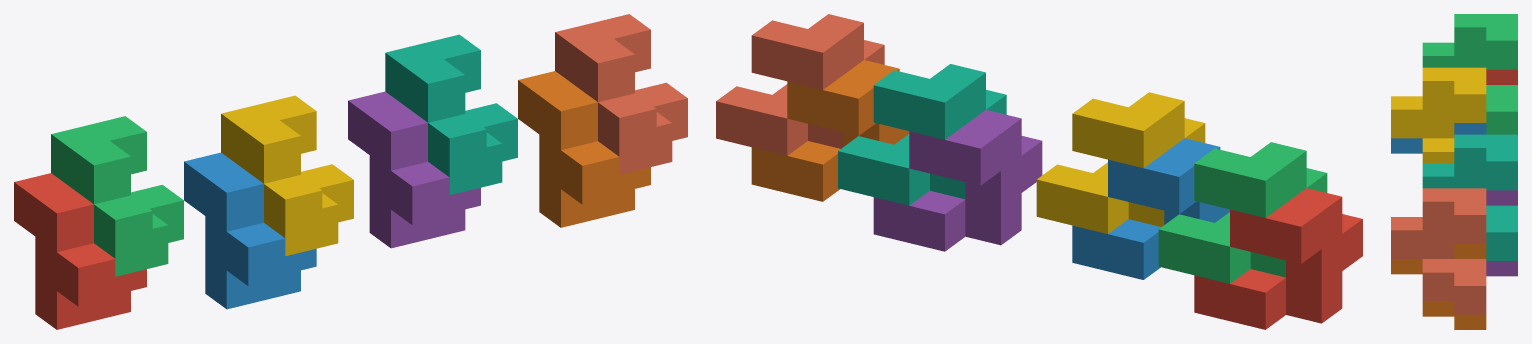
File: tiling.obj
3 renders of one model, left to right at view 1: azimuth 30°, elevation 25°; view 2: azimuth 150°, elevation 25°; view 3: azimuth 270°, elevation 25°, orthographic. The views are drawn at different scales.
Visible parts, largest first — view 1: copy_1_domain_7, copy_1_domain_4, copy_1_domain_8, copy_1_domain_3, copy_1_domain_5, copy_1_domain_1, copy_1_domain_2, copy_1_domain_6; view 2: copy_1_domain_5, copy_1_domain_1, copy_1_domain_4, copy_1_domain_7, copy_1_domain_3, copy_1_domain_8, copy_1_domain_6, copy_1_domain_2; view 3: copy_1_domain_8, copy_1_domain_4, copy_1_domain_7, copy_1_domain_3, copy_1_domain_6, copy_1_domain_5, copy_1_domain_2, copy_1_domain_1.
Boxes of the visible parts, <box> form: copy_1_domain_7: <box>385,34,517,194</box>; copy_1_domain_4: <box>221,95,353,256</box>; copy_1_domain_8: <box>555,14,687,174</box>; copy_1_domain_3: <box>51,116,183,276</box>; copy_1_domain_5: <box>348,91,480,248</box>; copy_1_domain_1: <box>14,173,146,329</box>; copy_1_domain_2: <box>184,152,316,309</box>; copy_1_domain_6: <box>518,71,650,227</box>; copy_1_domain_5: <box>873,110,1042,251</box>; copy_1_domain_1: <box>1194,188,1362,329</box>; copy_1_domain_4: <box>1036,92,1205,233</box>; copy_1_domain_7: <box>838,64,1006,205</box>; copy_1_domain_3: <box>1158,142,1327,283</box>; copy_1_domain_8: <box>716,14,884,155</box>; copy_1_domain_6: <box>751,60,909,201</box>; copy_1_domain_2: <box>1072,138,1229,279</box>; copy_1_domain_8: <box>1391,188,1486,314</box>; copy_1_domain_4: <box>1391,67,1486,163</box>; copy_1_domain_7: <box>1422,134,1517,260</box>; copy_1_domain_3: <box>1422,14,1517,134</box>; copy_1_domain_6: <box>1391,243,1486,329</box>; copy_1_domain_5: <box>1486,190,1517,276</box>; copy_1_domain_2: <box>1391,123,1486,153</box>; copy_1_domain_1: <box>1486,69,1517,84</box>.
Bounding box in the file's own units: 17 × 4 × 4.
